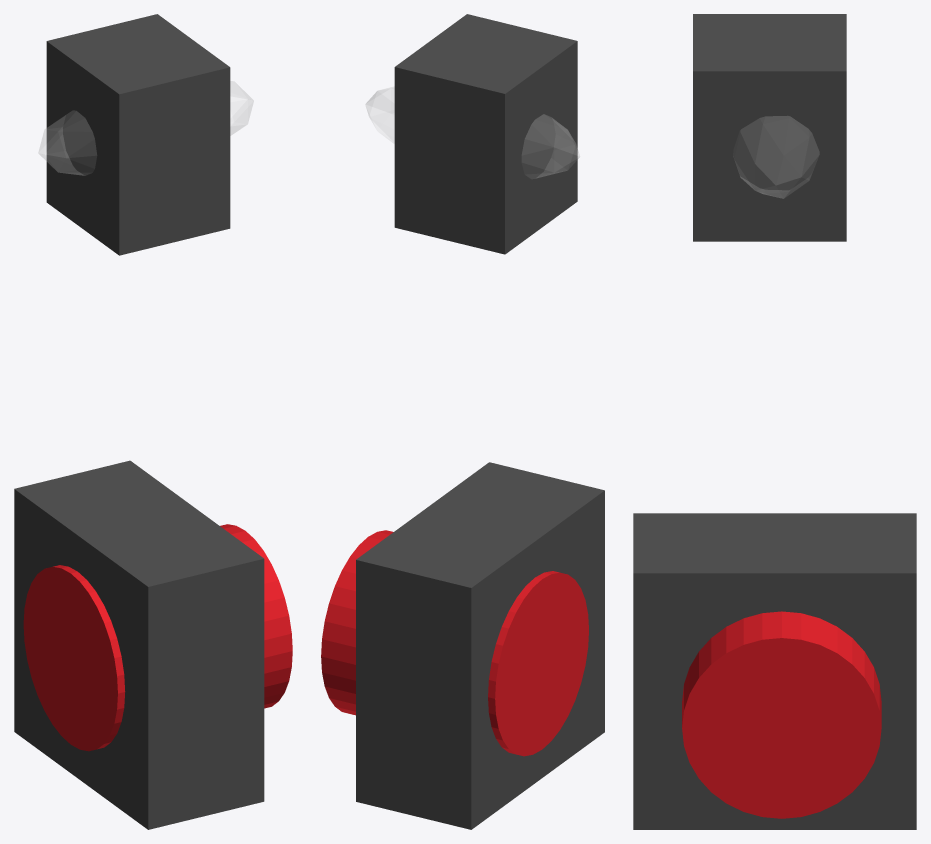
Rendered from boton_validacion.glb.
3 renders of one model, left to right at view 1: azimuth 30°, elevation 25°; view 2: azimuth 150°, elevation 25°; view 3: azimuth 270°, elevation 25°, orthographic. The views are drawn at different scales.
Visible parts, largest first — view 1: Cube, Cube.001, Cylinder, Icosphere; view 2: Cube, Cube.001, Cylinder, Icosphere; view 3: Cube, Cube.001, Cylinder, Icosphere.
Part boxes in pixels (bbox=[...]): Cube: bbox=[14, 460, 264, 829]; Cube.001: bbox=[46, 14, 230, 255]; Cylinder: bbox=[23, 524, 292, 751]; Icosphere: bbox=[38, 81, 253, 175]; Cube: bbox=[356, 462, 604, 829]; Cube.001: bbox=[394, 14, 577, 254]; Cylinder: bbox=[321, 530, 588, 756]; Icosphere: bbox=[365, 87, 579, 178]; Cube: bbox=[633, 513, 916, 829]; Cube.001: bbox=[693, 14, 846, 241]; Cylinder: bbox=[682, 611, 881, 818]; Icosphere: bbox=[734, 116, 818, 198].
Size of the model in its own units: 0.3722 by 1.18 by 0.4.
